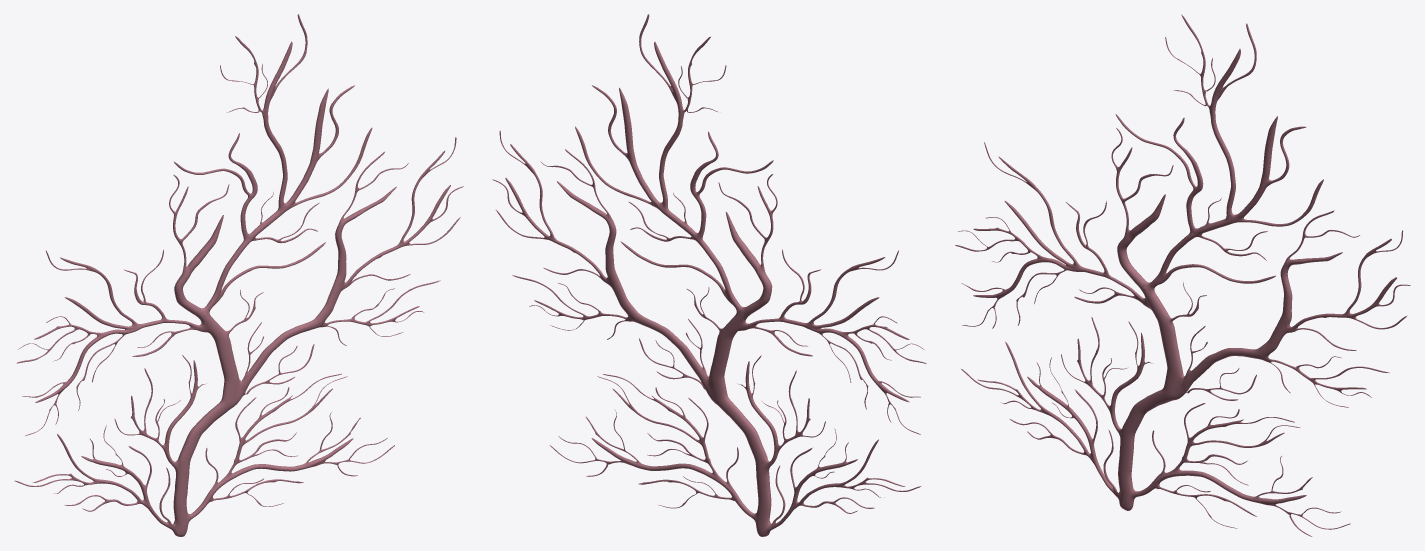
3 views of the same model, side by side, from view 1: azimuth 30°, elevation 25°; view 2: azimuth 150°, elevation 25°; view 3: azimuth 330°, elevation 25° (orthographic). The views are drawn at different scales.
Visible parts, largest first — view 1: coral_root_2_retop; view 2: coral_root_2_retop; view 3: coral_root_2_retop.
Boxes of the visible parts, x1,y1,x2,y2 form: coral_root_2_retop: (14,14,463,536); coral_root_2_retop: (492,14,926,536); coral_root_2_retop: (955,14,1410,536).
Size of the model in its own units: 231 by 248 by 9.51.
